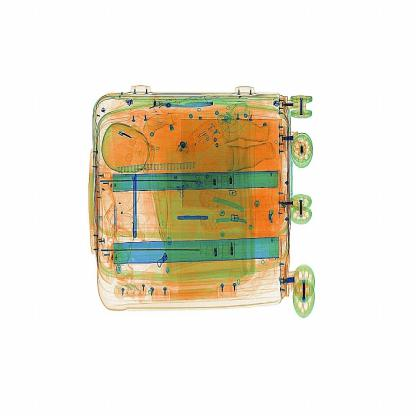pliers: (125, 168, 152, 242)
